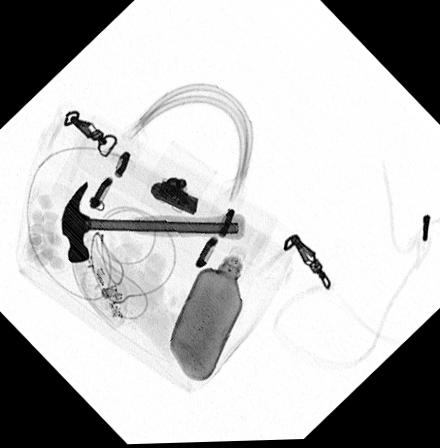Hammer: (60, 181, 246, 264)
